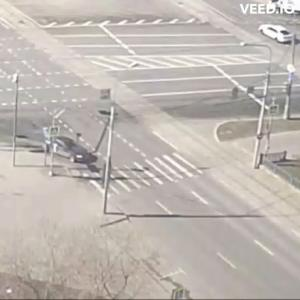car: (43, 133, 93, 168), (260, 25, 295, 45)
